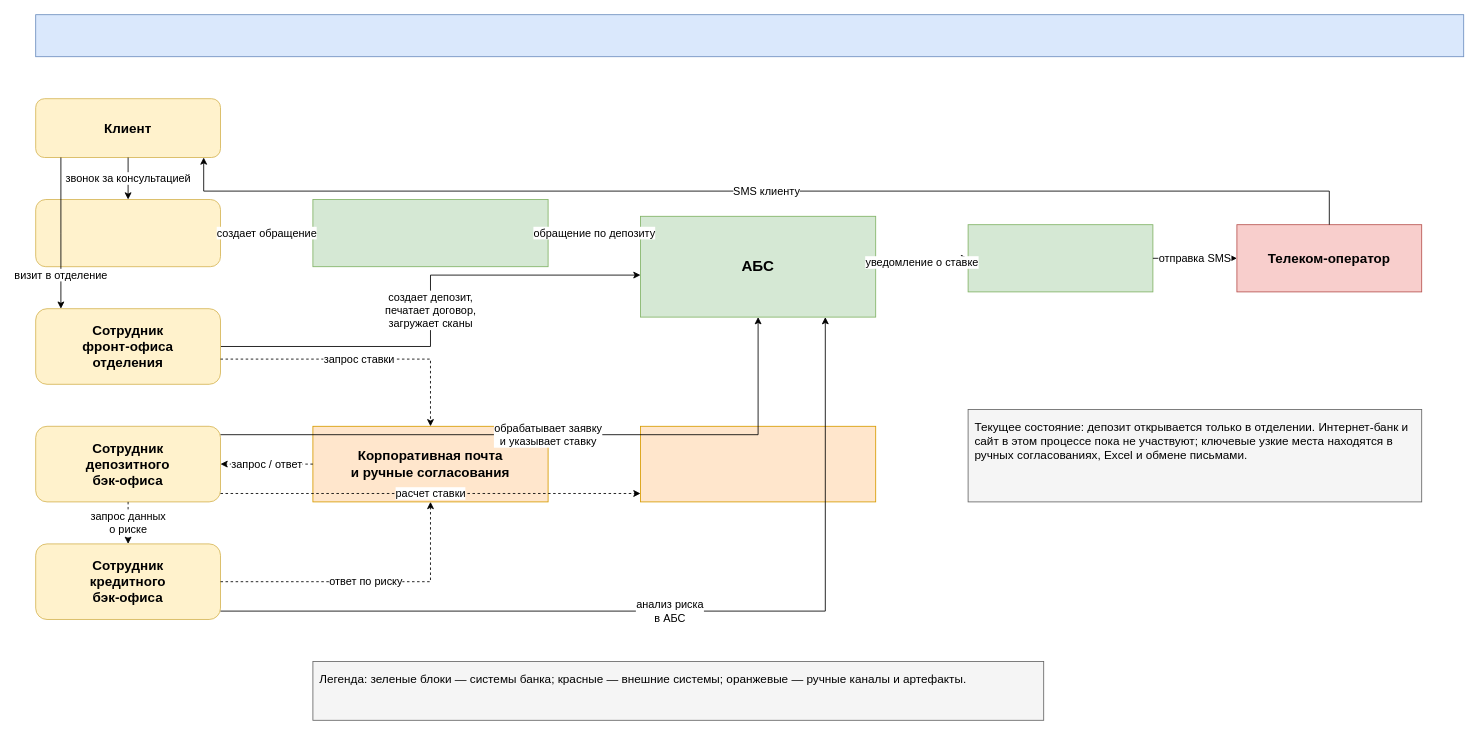
This 1478x735 diagram has some shape labels left out. Each missing label, with the centre of its shape:
Excel-файл со ставками: [758,463]
Task 1. Текущая схема интеграции приложений: депозитный процесс: [749,35]
Оператор кол-центра: [127,233]
Система кол-центра: [430,233]
СМС-шлюз: [1060,258]
